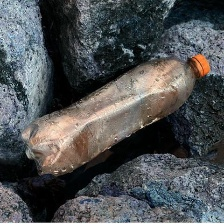bottle: (17, 50, 210, 180)
